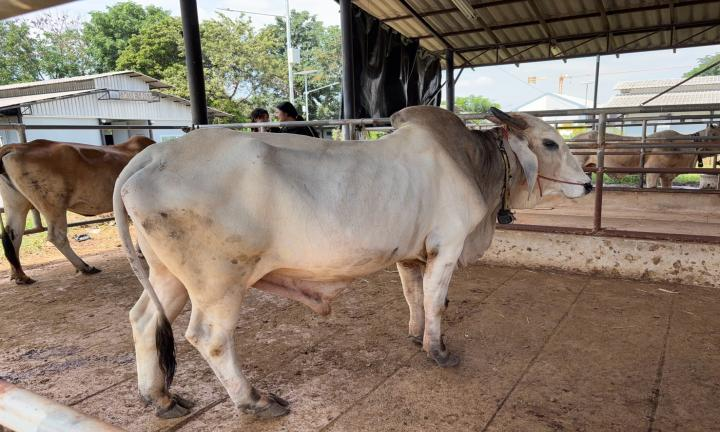Brahman: (114, 106, 591, 418)
